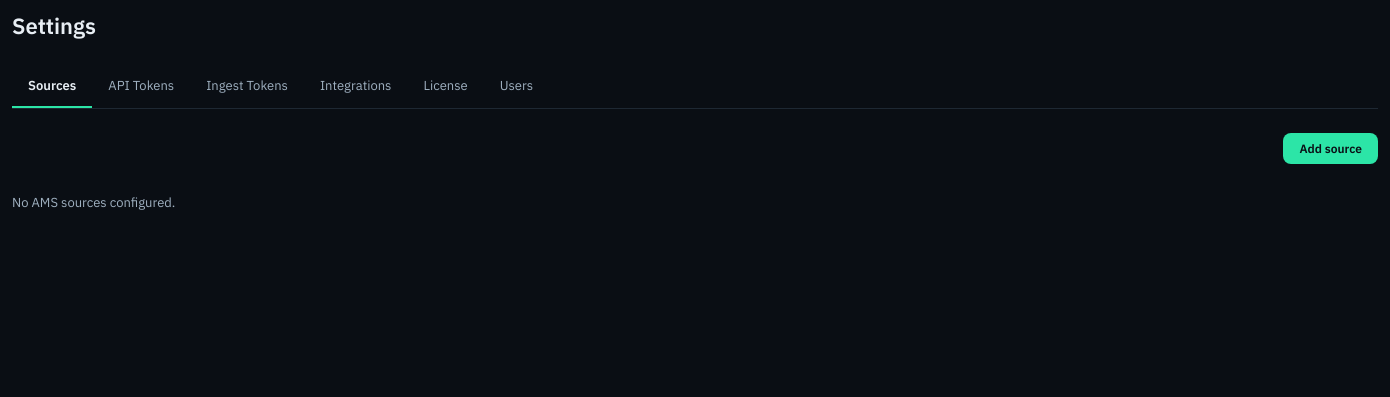
Test: SettingsPage rendering › (e) License tab — activate form with key input is shown
Click the tab "License".
click(446, 86)  # box [408,64,484,108]
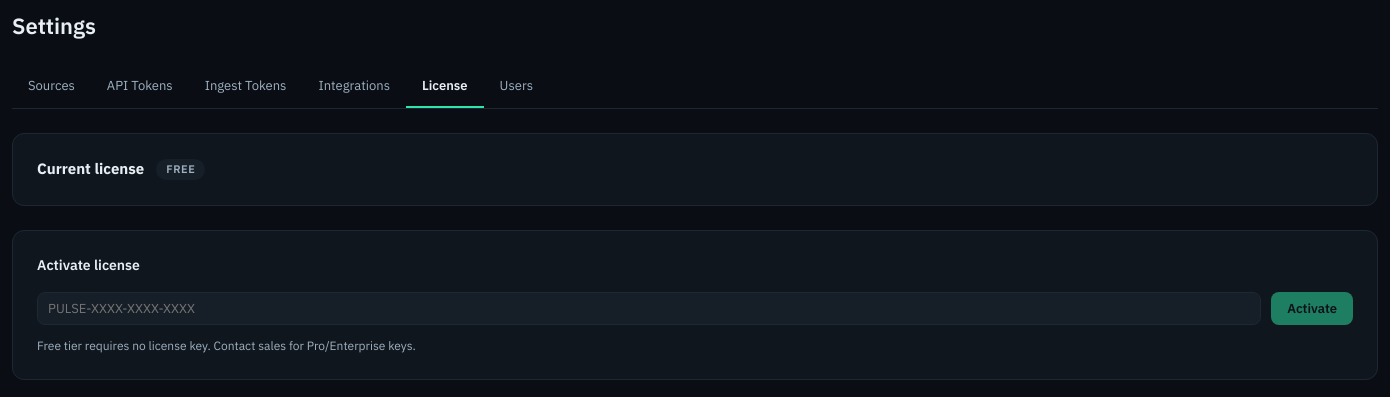
Expected: the field with placeholder "PULSE-XXXX-XXXX-XXXX" is shown, [37,292,1261,324]
